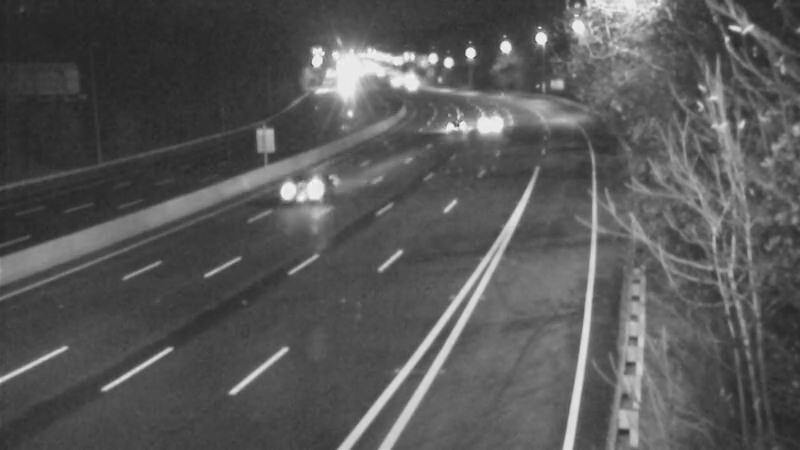vehicle: (266, 148, 346, 228), (465, 96, 515, 146), (432, 102, 482, 152)
